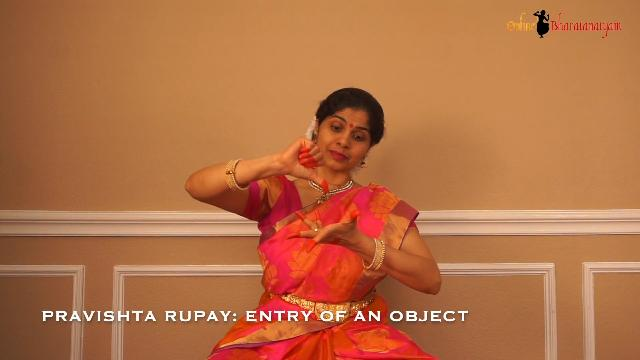shikhar: (268, 130, 342, 204)
